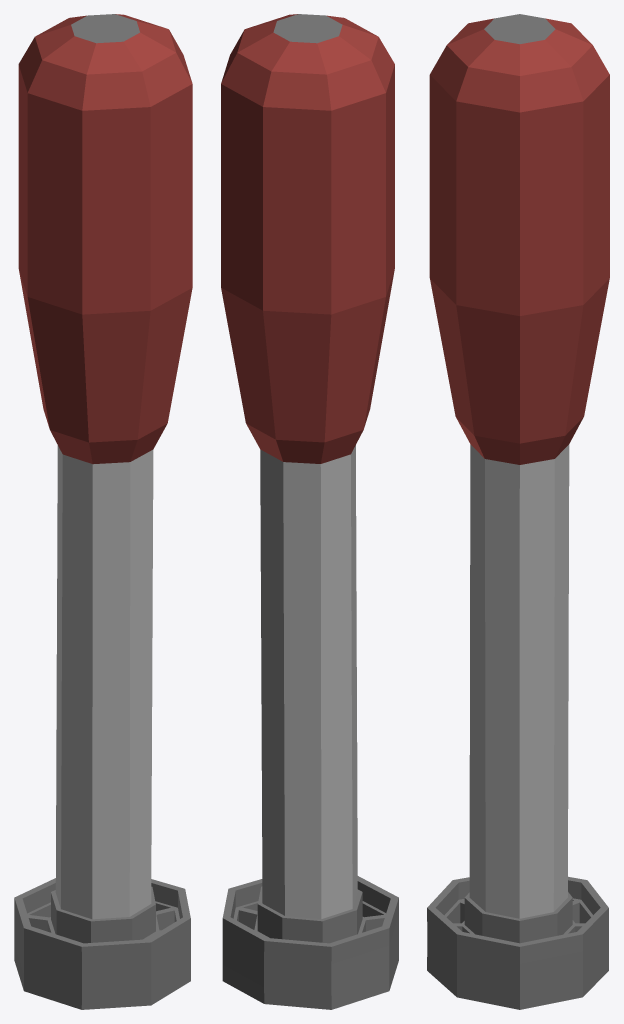
Rendered from RCKT-B.fbx.
3 renders of one model, left to right at view 1: azimuth 30°, elevation 25°; view 2: azimuth 150°, elevation 25°; view 3: azimuth 270°, elevation 25°, orthographic.
Visible parts, largest first — view 1: Cylinder.026; view 2: Cylinder.026; view 3: Cylinder.026.
Boxes of the visible parts, bbox=[...] form: Cylinder.026: bbox=[14, 14, 192, 1009]; Cylinder.026: bbox=[221, 14, 398, 1009]; Cylinder.026: bbox=[427, 14, 609, 1009].
Bounding box in the file's own units: 80.44 × 454 × 78.99.
